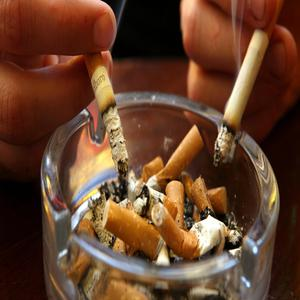cigarette: (211, 1, 284, 169), (79, 49, 134, 181)
